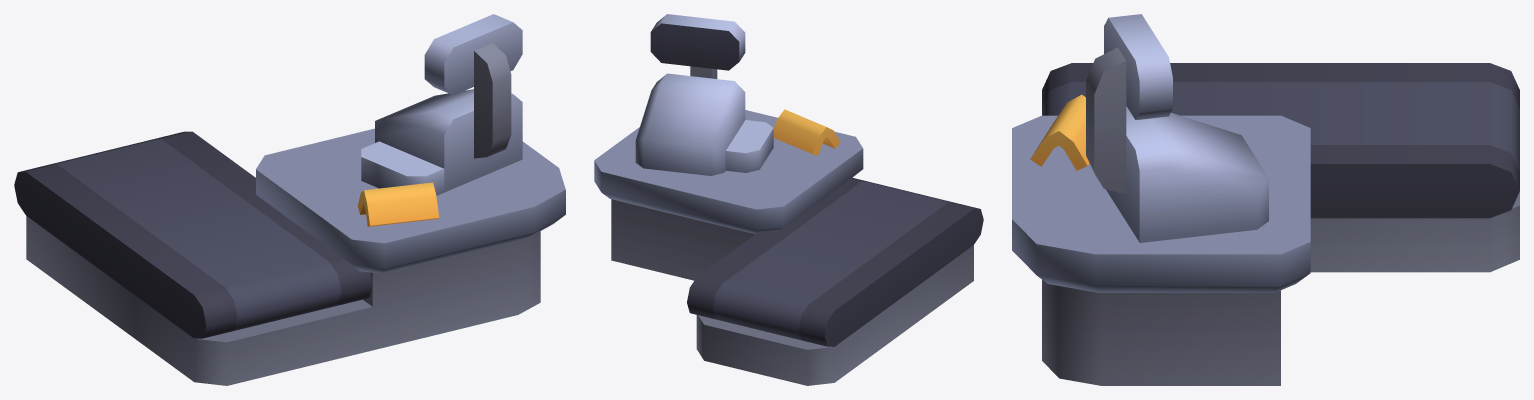
Rendered from cash-register.glb.
3 renders of one model, left to right at view 1: azimuth 30°, elevation 25°; view 2: azimuth 150°, elevation 25°; view 3: azimuth 270°, elevation 25°, orthographic. The views are drawn at different scales.
Parts seen in each view (by area): view 1: cash-register; view 2: cash-register; view 3: cash-register.
Part boxes in pixels (x1,y1,x2,y2): cash-register: (14, 14, 565, 385); cash-register: (594, 14, 983, 385); cash-register: (1012, 14, 1519, 385).
Bounding box in the file's own units: 0.9 × 0.5906 × 0.85.
Materials: 1 (1 with a texture image).
